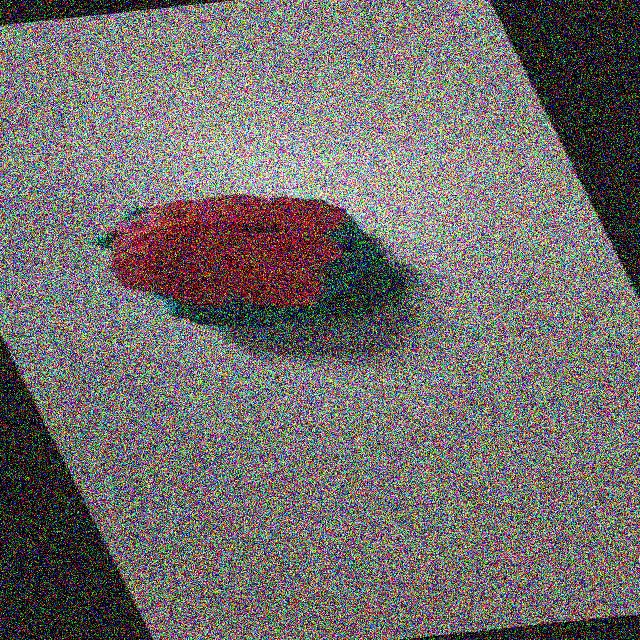House: (72, 171, 438, 348)
